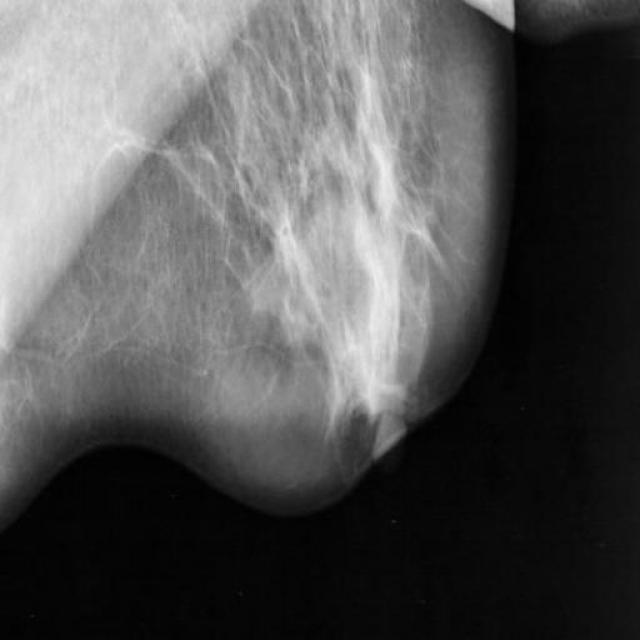cancer: (254, 291, 315, 398)
